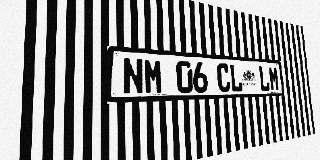0: (176, 60, 193, 93)
6: (192, 61, 208, 93)
C: (216, 63, 231, 92)
L: (229, 64, 243, 92), (258, 66, 270, 91)
M: (144, 58, 163, 94), (268, 66, 280, 91)
N: (123, 57, 144, 95)
